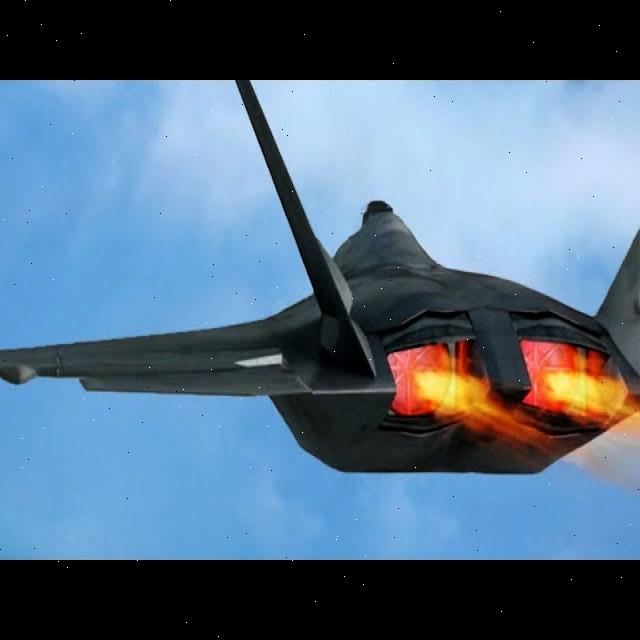F22: (0, 140, 640, 497)
